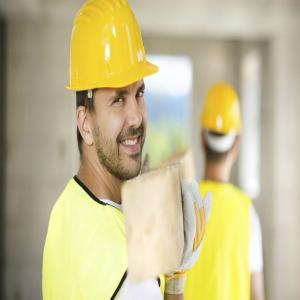yellow: (71, 3, 149, 184), (200, 83, 243, 173)
